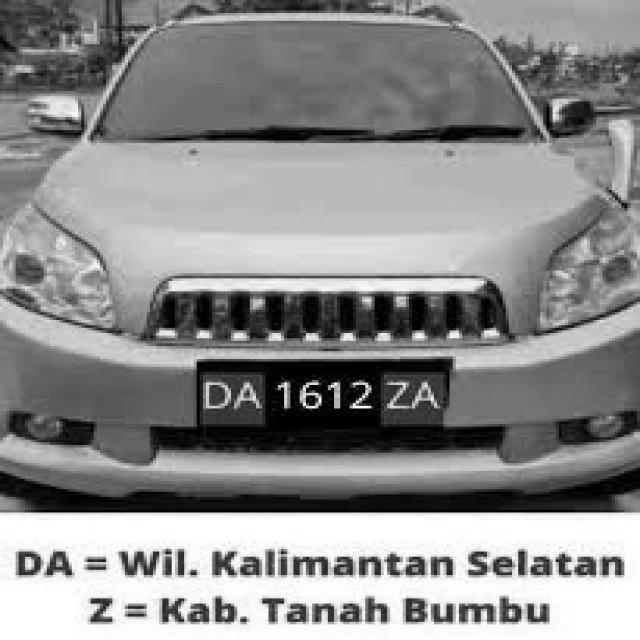1: (320, 373, 350, 418), (273, 375, 299, 420)
2: (348, 370, 380, 423)
6: (298, 374, 320, 421)
A: (416, 380, 446, 418), (233, 379, 262, 412)
D: (202, 379, 234, 412)
Z: (383, 378, 409, 418)
